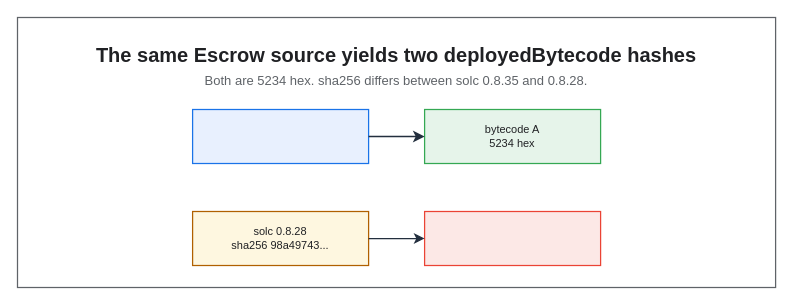
Image size: 794x306. Some labels were removed from this diagram. The centre of each missing label's shape, as x and y in pixels:
bytecode B 5234 hex, not A: (x=512, y=238)
solc 0.8.35 sha256 d8f49804...: (x=280, y=136)
